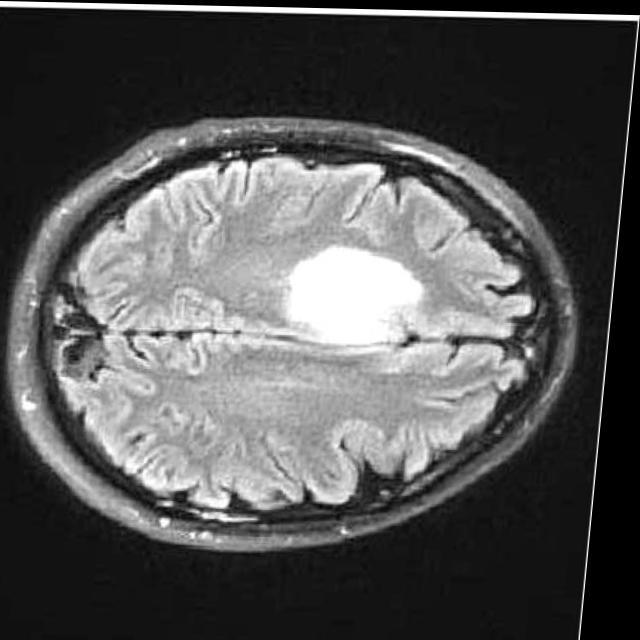Tumor: (294, 244, 423, 342)
